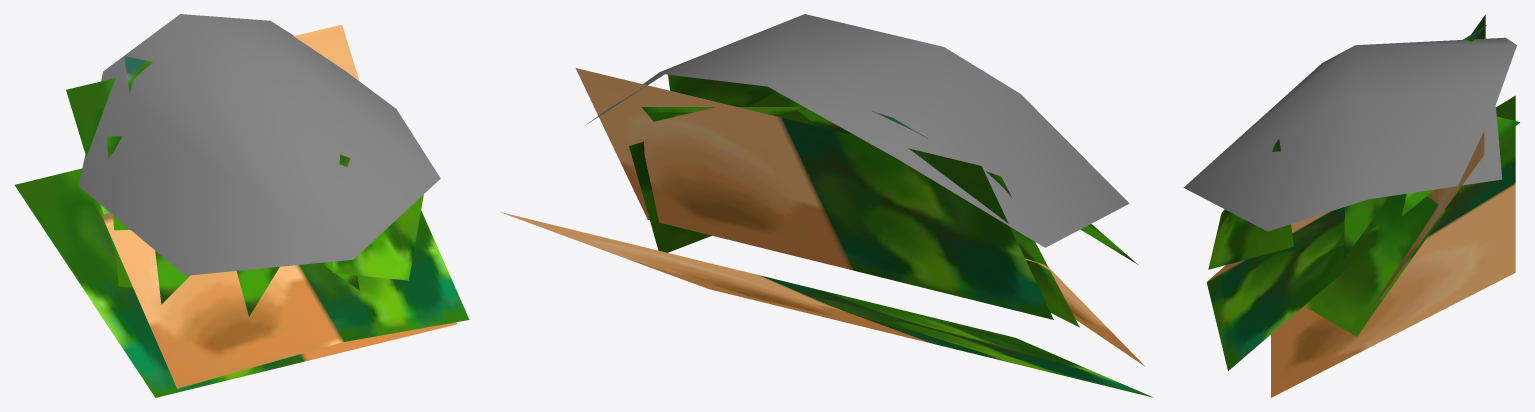
Rendered from fg_bushD_2_s.dae.
The picture shows the model from 3 angles, left to right: view 1: azimuth 30°, elevation 25°; view 2: azimuth 150°, elevation 25°; view 3: azimuth 270°, elevation 25°; orthographic projection. The views are drawn at different scales.
Parts seen in each view (by area): view 1: fg_bushD_2_s; view 2: fg_bushD_2_s; view 3: fg_bushD_2_s.
Part boxes in pixels (x1,y1,x2,y2): fg_bushD_2_s: (14,14,469,397); fg_bushD_2_s: (500,14,1153,397); fg_bushD_2_s: (1183,14,1519,397).
Bounding box in the file's own units: 47.83 × 34.27 × 38.41.
Materials: 1 (1 with a texture image).
